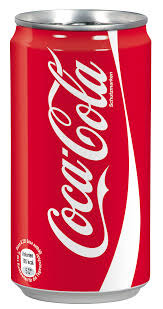coke: (9, 9, 153, 300)
